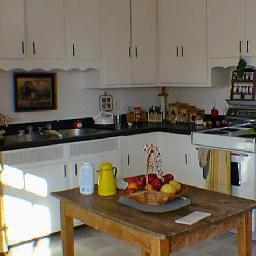Electrodomestico: (192, 133, 254, 198)
Lavaplatos: (15, 120, 116, 147)
